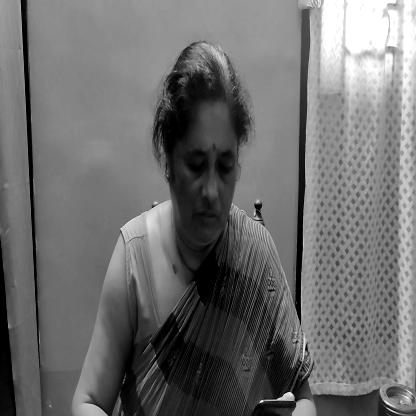Distracted: (154, 48, 250, 254)
